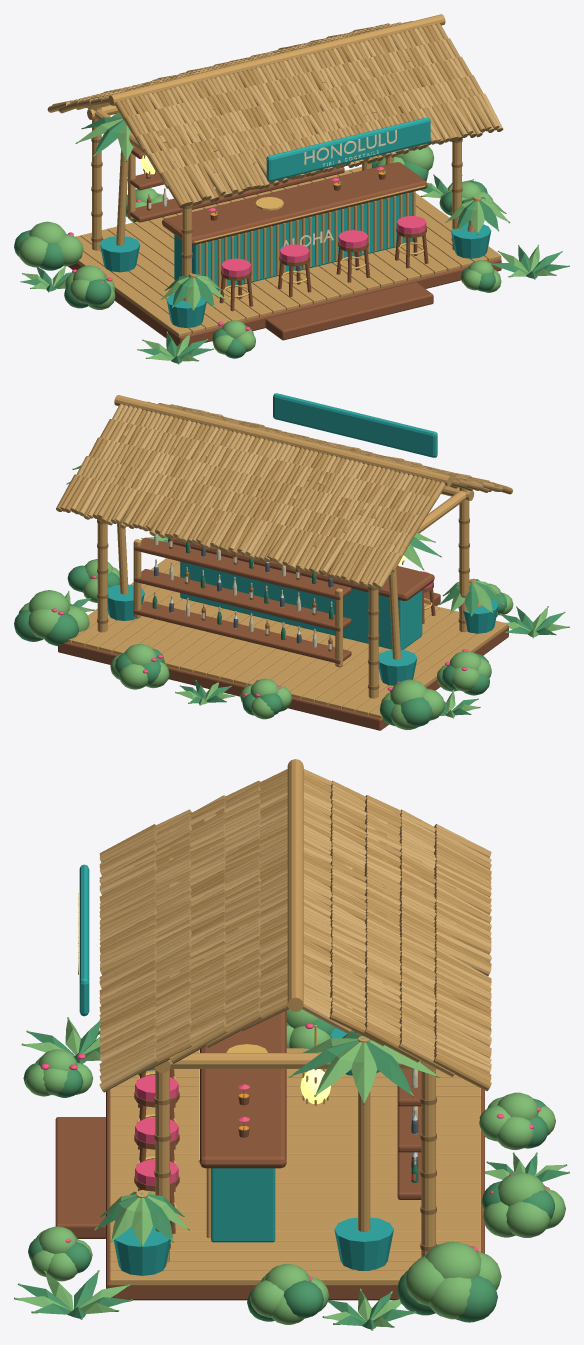
The model's file is honolulu-bar.glb.
3 views of the same model, one above another, from view 1: azimuth 30°, elevation 25°; view 2: azimuth 150°, elevation 25°; view 3: azimuth 270°, elevation 25° (orthographic). The views are drawn at different scales.
Parts seen in each view (by area): view 1: Bar | Honey bamboo, Bar | Warm teak, Bar | Lagoon enamel, Bar | Thatch 03, Bar | Young leaf, Bar | Thatch 01, Bar | Thatch 04, Bar | Thatch 02, Bar | Thatch 00, Bar | Palm green, Bar | Hibiscus coral, Bar | Brass (+2 smaller); view 2: Bar | Honey bamboo, Bar | Warm teak, Bar | Lagoon enamel, Bar | Thatch 03, Bar | Young leaf, Bar | Thatch 01, Bar | Thatch 04, Bar | Thatch 00, Bar | Thatch 02, Bar | Palm green, Bar | Bamboo joints, Bar | wine_bottles_01_glass_yellow (+3 smaller); view 3: Bar | Honey bamboo, Bar | Young leaf, Bar | Warm teak, Bar | Thatch 01, Bar | Thatch 04, Bar | Thatch 03, Bar | Thatch 02, Bar | Thatch 00, Bar | Palm green, Bar | Lagoon enamel, Bar | Hibiscus coral, Bar | Bamboo joints (+1 smaller).
Boxes of the visible parts, left/top/right/bottom form: Bar | Honey bamboo: left=75, top=14, right=501, bottom=336; Bar | Warm teak: left=68, top=147, right=501, bottom=346; Bar | Lagoon enamel: left=100, top=117, right=491, bottom=328; Bar | Thatch 03: left=47, top=24, right=499, bottom=205; Bar | Young leaf: left=18, top=112, right=569, bottom=364; Bar | Thatch 01: left=71, top=23, right=491, bottom=197; Bar | Thatch 04: left=86, top=23, right=503, bottom=202; Bar | Thatch 02: left=52, top=22, right=485, bottom=206; Bar | Thatch 00: left=92, top=21, right=462, bottom=208; Bar | Palm green: left=14, top=117, right=566, bottom=363; Bar | Hibiscus coral: left=68, top=166, right=451, bottom=330; Bar | Brass: left=194, top=185, right=425, bottom=297; Bar | Honey bamboo: left=68, top=395, right=507, bottom=718; Bar | Warm teak: left=58, top=537, right=508, bottom=730; Bar | Lagoon enamel: left=107, top=393, right=498, bottom=685; Bar | Thatch 03: left=101, top=403, right=502, bottom=589; Bar | Young leaf: left=18, top=465, right=569, bottom=729; Bar | Thatch 01: left=60, top=401, right=479, bottom=584; Bar | Thatch 04: left=70, top=404, right=464, bottom=575; Bar | Thatch 00: left=56, top=406, right=512, bottom=583; Bar | Thatch 02: left=76, top=405, right=507, bottom=587; Bar | Palm green: left=14, top=481, right=562, bottom=726; Bar | Bamboo joints: left=97, top=518, right=469, bottom=689; Bar | wine_bottles_01_glass_yellow: left=154, top=533, right=316, bottom=647; Bar | Honey bamboo: left=110, top=759, right=480, bottom=1285; Bar | Young leaf: left=14, top=1009, right=569, bottom=1330; Bar | Warm teak: left=55, top=1010, right=484, bottom=1300; Bar | Thatch 01: left=99, top=772, right=491, bottom=1081; Bar | Thatch 04: left=99, top=791, right=491, bottom=1092; Bar | Thatch 03: left=99, top=782, right=491, bottom=1082; Bar | Thatch 02: left=99, top=769, right=491, bottom=1076; Bar | Thatch 00: left=99, top=769, right=491, bottom=1090; Bar | Palm green: left=21, top=1018, right=566, bottom=1329; Bar | Lagoon enamel: left=79, top=864, right=393, bottom=1275; Bar | Hibiscus coral: left=41, top=1023, right=549, bottom=1281; Bar | Bamboo joints: left=154, top=1096, right=436, bottom=1251.
Size of the model in its own units: 9.38 by 4.21 by 6.9.
